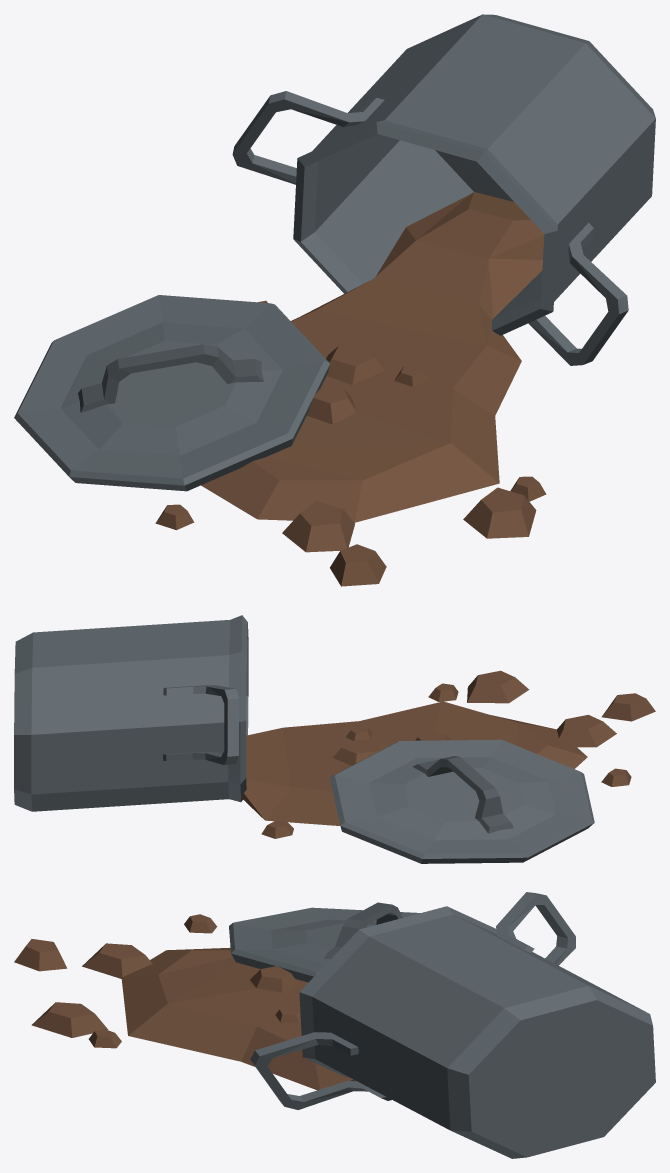
Rendered from 打扫污渍01.fbx.
The picture shows the model from 3 angles, top to bottom: view 1: azimuth 30°, elevation 25°; view 2: azimuth 150°, elevation 25°; view 3: azimuth 270°, elevation 25°; orthographic projection. The views are drawn at different scales.
Parts seen in each view (by area): view 1: huitugou_2200_1009; view 2: huitugou_2200_1009; view 3: huitugou_2200_1009.
Part boxes in pixels (box(x1,y1,x2,y2)): huitugou_2200_1009: box(14, 14, 655, 586); huitugou_2200_1009: box(14, 615, 655, 863); huitugou_2200_1009: box(14, 892, 655, 1158).
Bounding box in the file's own units: 126 × 36.24 × 127.
